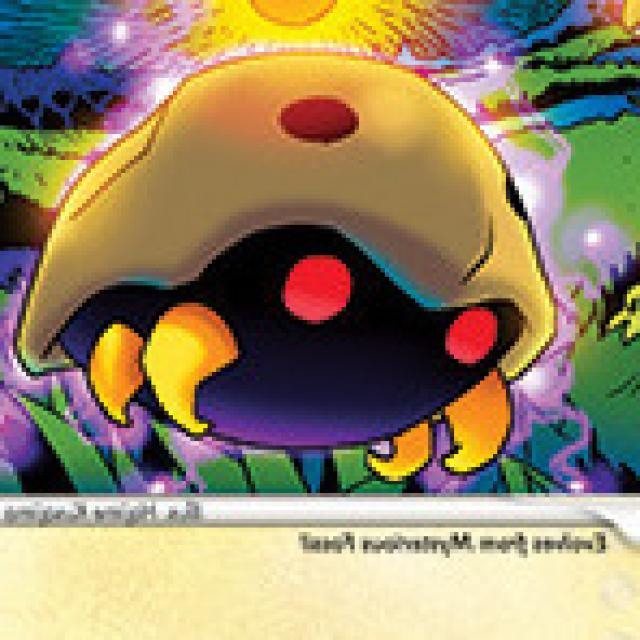Kabuto: (8, 50, 560, 481)
